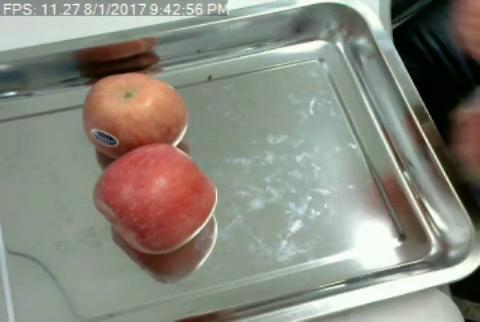apple: (95, 144, 218, 254), (84, 72, 185, 144)
